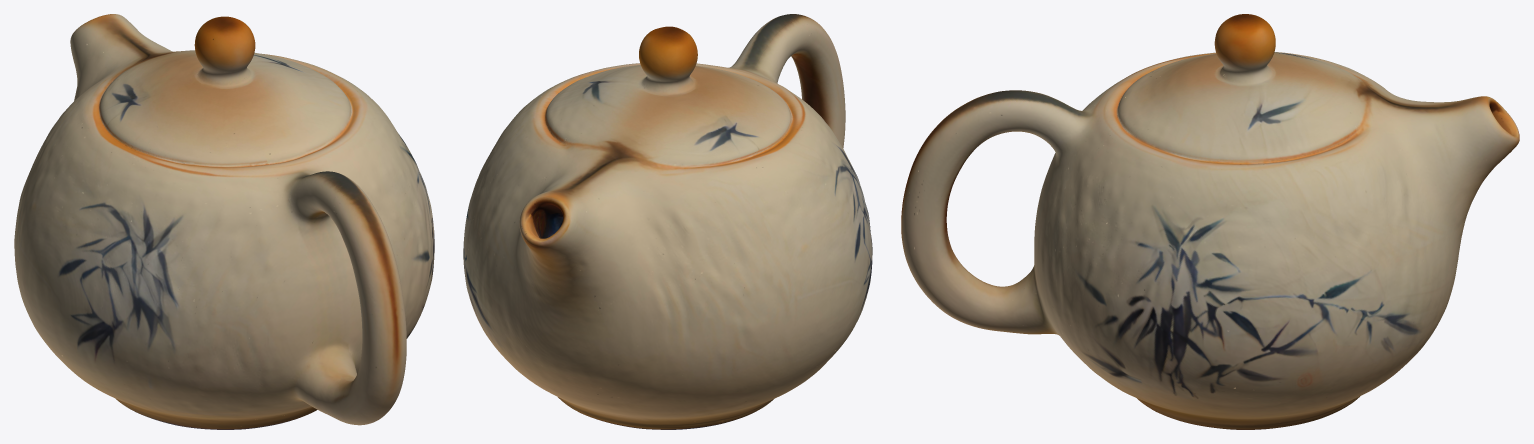
The model's file is tripo_convert_809e7434-105d-40a4-a1b2-12902280c88d.fbx.
3 renders of one model, left to right at view 1: azimuth 30°, elevation 25°; view 2: azimuth 150°, elevation 25°; view 3: azimuth 270°, elevation 25°, orthographic. The views are drawn at different scales.
Parts seen in each view (by area): view 1: tripo_node_809e7434; view 2: tripo_node_809e7434; view 3: tripo_node_809e7434.
Part boxes in pixels (x1,y1,x2,y2): tripo_node_809e7434: (14, 14, 434, 429); tripo_node_809e7434: (463, 14, 872, 429); tripo_node_809e7434: (901, 14, 1519, 429).
Size of the model in its own units: 64.97 by 63.95 by 95.04.
1 material, 1 textured.
